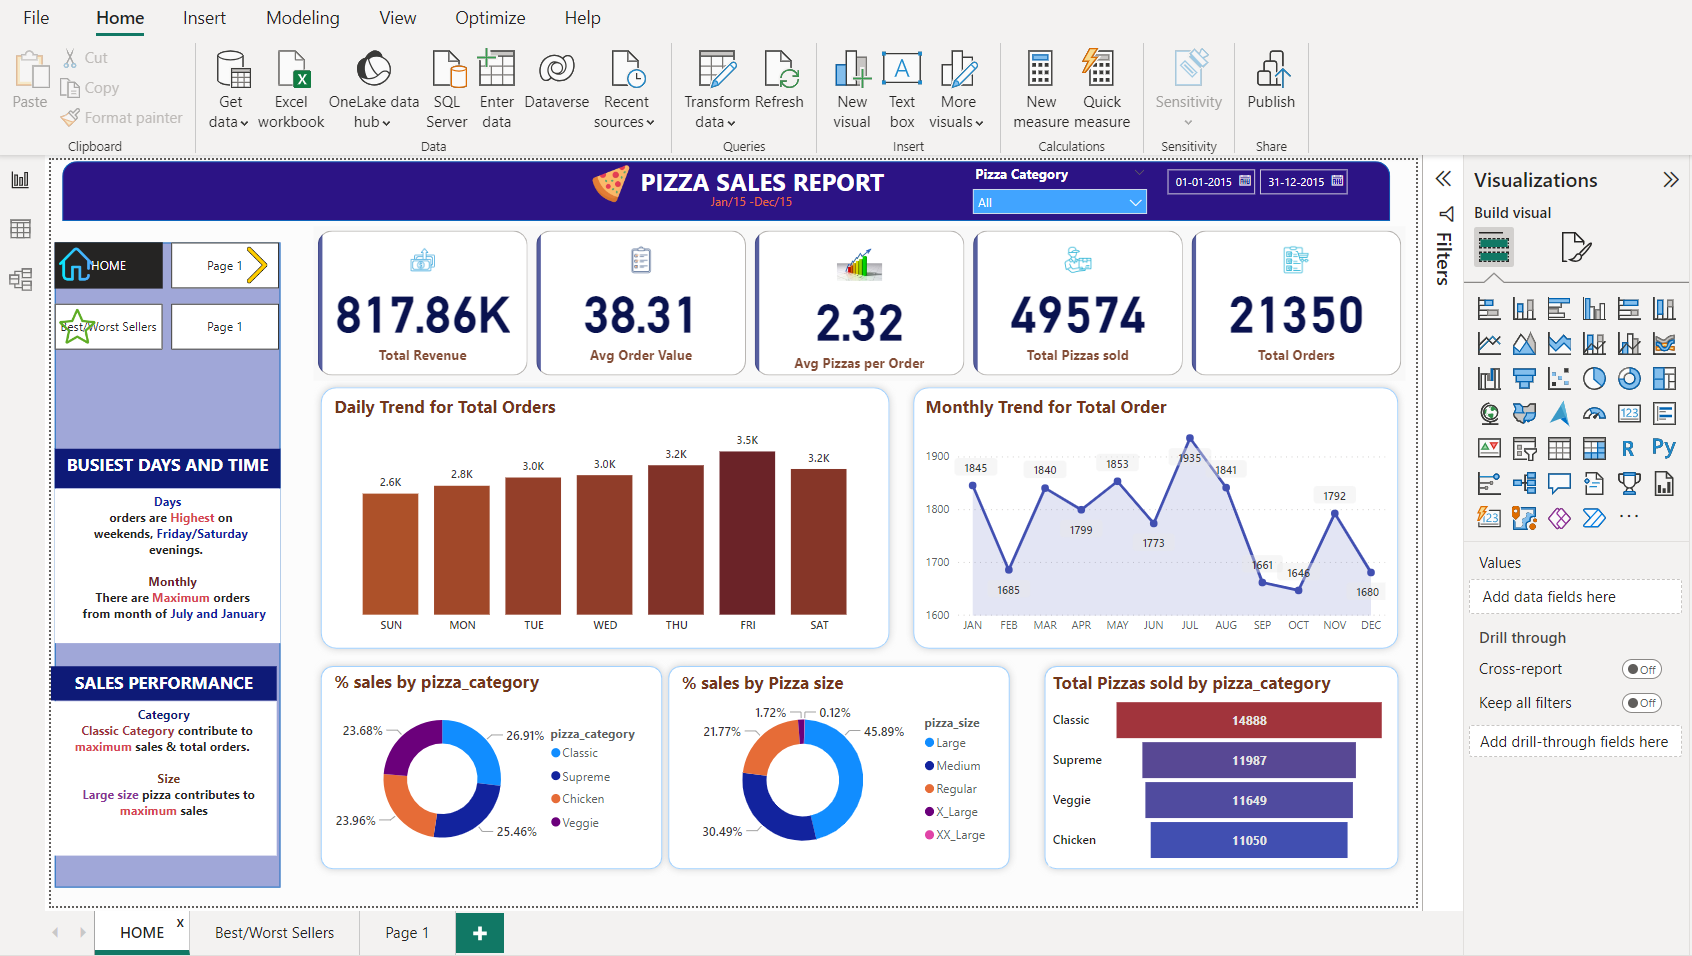

What the dashboard file says about the page in this screenshot:
{"tool":"powerbi","page":{"name":"HOME","canvas":[1500,820],"ordinal":0},"visuals":[{"type":"shape","box":[4.2,90.5,247.8,708.6],"z":0},{"type":"shape","box":[12.5,1.4,1459,65.4],"z":1000},{"type":"cardVisual","fields":{"Data":["pizza_sales.Total Revenue","pizza_sales.Avg Order Value","pizza_sales.Avg Pizzas per Order","pizza_sales.Total Pizzas sold","pizza_sales.Total Orders"]},"box":[288.2,72.4,1200.1,169.8],"z":2000},{"type":"textbox","box":[643.2,0,309.1,61.3],"z":3000},{"type":"textbox","box":[719.8,32,125.3,40.4],"z":4000},{"type":"image","box":[560,0,110,52.5],"z":5000},{"type":"shape","box":[288.2,242.2,640.4,303.5],"z":6000},{"type":"columnChart","title":" Daily Trend for Total Orders","fields":{"Category":["pizza_sales.Order Day"],"Y":["pizza_sales.Total Orders"]},"box":[306.3,257.6,605.6,271.5],"z":7000},{"type":"shape","box":[939.7,242.2,548.5,303.5],"z":8000},{"type":"areaChart","title":"Monthly Trend for Total Order ","fields":{"Category":["pizza_sales.Order Month"],"Y":["pizza_sales.Total Orders"]},"box":[956.4,257.6,515.1,271.5],"z":9000},{"type":"shape","box":[288.2,548.5,391.2,239.5],"z":10000},{"type":"shape","box":[669.6,548.5,391.2,239.5],"z":11000},{"type":"shape","box":[1083.1,548.5,405.1,239.5],"z":12000},{"type":"donutChart","title":"% sales  by pizza_category","fields":{"Category":["pizza_sales.pizza_category"],"Y":["pizza_sales.Total Revenue"]},"box":[306.3,561.1,356.4,214.4],"z":13000},{"type":"donutChart","title":"% sales  by Pizza size","fields":{"Y":["pizza_sales.Total Revenue"],"Category":["pizza_sales.pizza_size"]},"box":[687.7,562.4,356.4,214.4],"z":14000},{"type":"textbox","box":[4.2,317.4,247.8,43.2],"z":15000},{"type":"funnel","fields":{"Y":["pizza_sales.Total Pizzas sold"],"Category":["pizza_sales.pizza_category"]},"box":[1095.7,562.4,375.9,214.4],"z":16000},{"type":"textbox","box":[0,556.9,247.8,37.6],"z":17000},{"type":"textbox","box":[4.2,360.6,247.8,169.8],"z":18000},{"type":"textbox","box":[0,594.5,247.8,169.8],"z":19000},{"type":"slicer","fields":{"Values":["pizza_sales.pizza_category"]},"box":[1002.4,0,211.6,61.3],"z":20000},{"type":"slicer","fields":{"Values":["pizza_sales.order_date"]},"box":[1214,0,217.2,65.4],"z":21000},{"type":"pageNavigator","box":[4.2,90.5,247.8,50.1],"z":22000},{"type":"pageNavigator","box":[4.2,157.3,247.8,50.1],"z":23000},{"type":"image","box":[183.8,90.5,84.9,50.1],"z":24000},{"type":"image","box":[0,90.5,54.3,47.3],"z":25000},{"type":"image","box":[4.2,157.3,50.1,50.1],"z":26000}]}

Visuals, with their boxes on the page's 1500x820 design canvas (x1, y1, x2, y2). These are canvas units, not pixel positions in the 1692x956 screenshot, which may show the page scaled, cropped or inside an application window:
shape: [4,90,252,799]
shape: [12,1,1472,67]
cardVisual - pizza_sales.Total Revenue x pizza_sales.Avg Order Value: [288,72,1488,242]
textbox: [643,0,952,61]
textbox: [720,32,845,72]
image: [560,0,670,52]
shape: [288,242,929,546]
" Daily Trend for Total Orders" columnChart: [306,258,912,529]
shape: [940,242,1488,546]
"Monthly Trend for Total Order " areaChart: [956,258,1472,529]
shape: [288,548,679,788]
shape: [670,548,1061,788]
shape: [1083,548,1488,788]
"% sales  by pizza_category" donutChart: [306,561,663,776]
"% sales  by Pizza size" donutChart: [688,562,1044,777]
textbox: [4,317,252,361]
funnel - pizza_sales.Total Pizzas sold x pizza_sales.pizza_category: [1096,562,1472,777]
textbox: [0,557,248,594]
textbox: [4,361,252,530]
textbox: [0,594,248,764]
slicer - pizza_sales.pizza_category: [1002,0,1214,61]
slicer - pizza_sales.order_date: [1214,0,1431,65]
pageNavigator: [4,90,252,141]
pageNavigator: [4,157,252,207]
image: [184,90,269,141]
image: [0,90,54,138]
image: [4,157,54,207]
